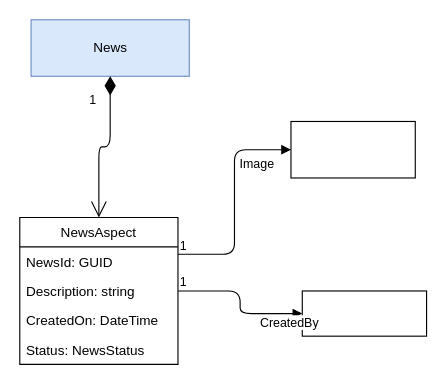
The diagram is 446 pixels wide and 388 high, and some of its shapes have lost their labels. Here are the shapes that lost their labels. From the top down, the centre of each, then its label:
(x=352, y=149): «interface» ImageId
(x=364, y=313): «interface» UserId
